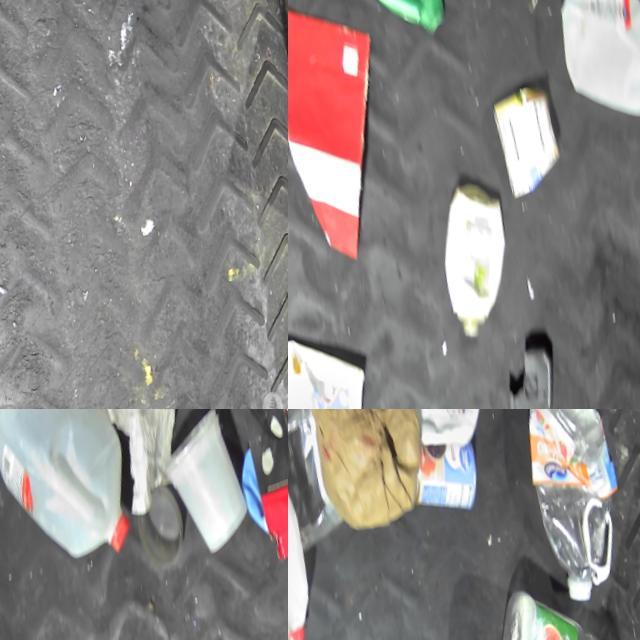can: (486, 83, 576, 213), (406, 436, 488, 532)
milk_jug: (0, 409, 149, 586), (545, 0, 640, 149), (288, 409, 331, 640), (288, 321, 396, 409)
non_white_jug: (304, 0, 468, 72), (231, 409, 288, 586)
plastic_bottle: (509, 409, 640, 622), (486, 578, 626, 640)
